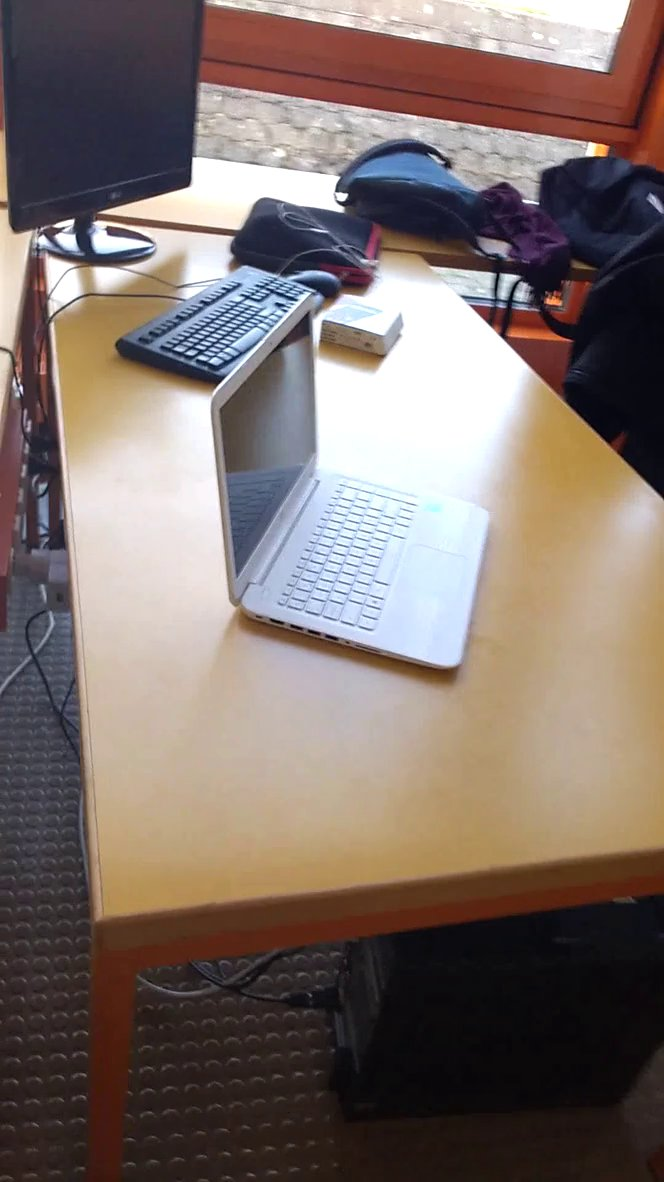bag: (527, 131, 664, 289), (324, 123, 486, 256)
laptop: (196, 279, 503, 689)
